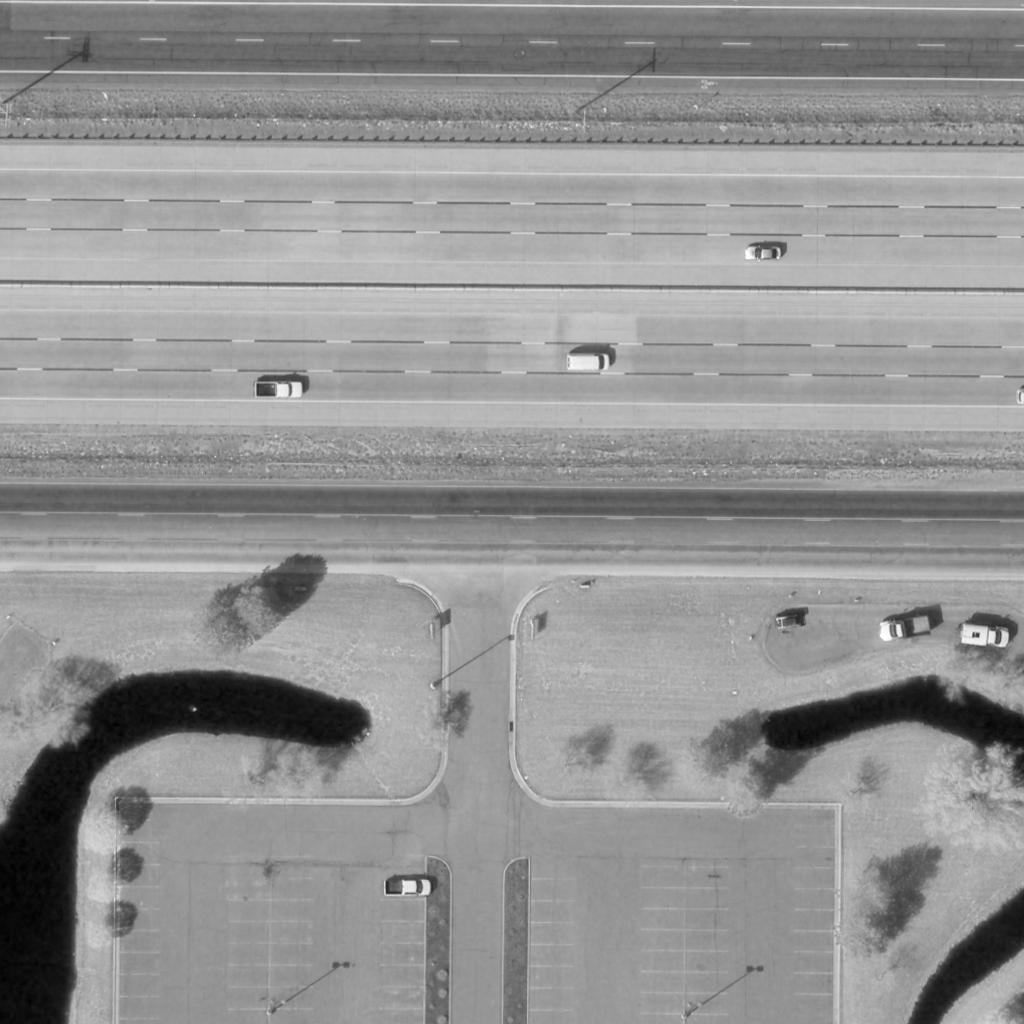vehicle: (880, 615, 932, 643), (960, 624, 1010, 650), (566, 352, 612, 372), (254, 381, 304, 399), (384, 880, 432, 896), (743, 245, 783, 261)
